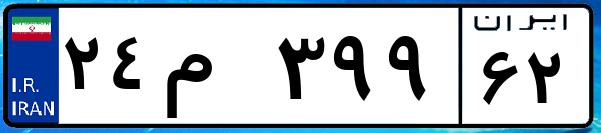2: (57, 26, 110, 100), (525, 38, 570, 115)
3: (270, 28, 330, 110)
4: (110, 28, 158, 98)
6: (475, 38, 525, 113)
9: (385, 28, 445, 110), (330, 28, 385, 110)
م: (158, 20, 270, 120)
